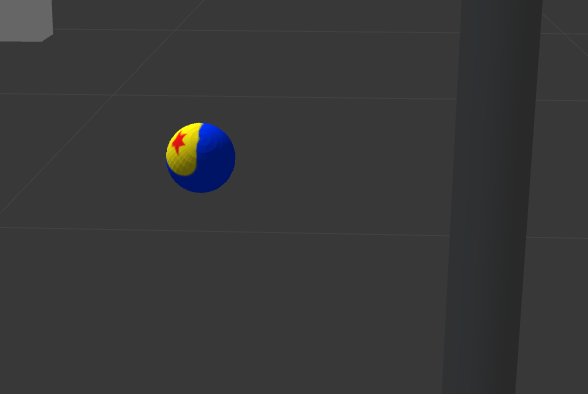toy story ball: (165, 122, 236, 194)
